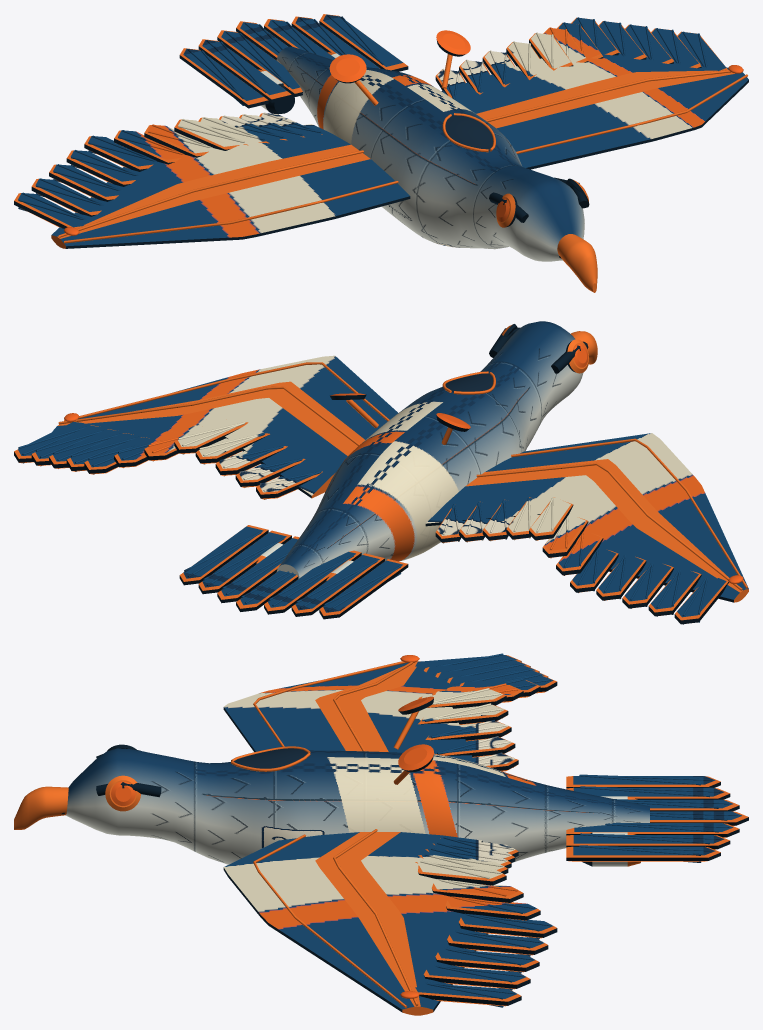
The picture shows the model from 3 angles, top to bottom: view 1: azimuth 30°, elevation 25°; view 2: azimuth 150°, elevation 25°; view 3: azimuth 270°, elevation 25°; orthographic projection. The views are drawn at different scales.
Visible parts, largest first — view 1: osprey_hull; view 2: osprey_hull; view 3: osprey_hull.
Boxes of the visible parts, x1,y1,x2,y2 form: osprey_hull: (14,14,748,292); osprey_hull: (14,321,748,624); osprey_hull: (14,653,748,1015).
Size of the model in its own units: 41 by 8.67 by 36.76.
Materials: 1 (1 with a texture image).
